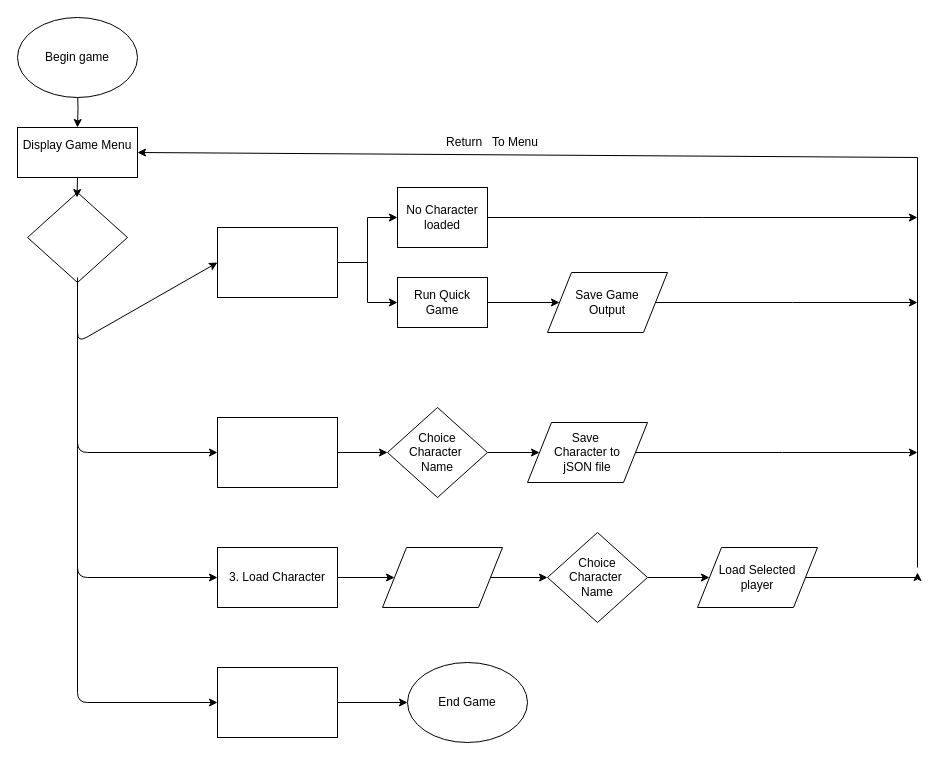
This 943x760 diagram has some shape labels left out. Here are the shapes that lost their labels. From the top down, the centre of each, then its label:
the point at 77,237: Users Menu Choice
the point at 277,262: 1. Start Game
the point at 277,452: 2. Create Character
the point at 442,577: Load List of Players
the point at 277,702: 4. Exit Game
